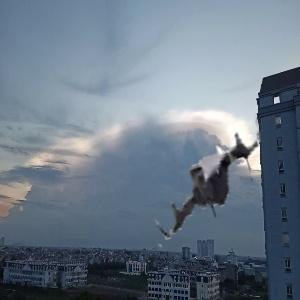drone: (142, 113, 284, 255)
